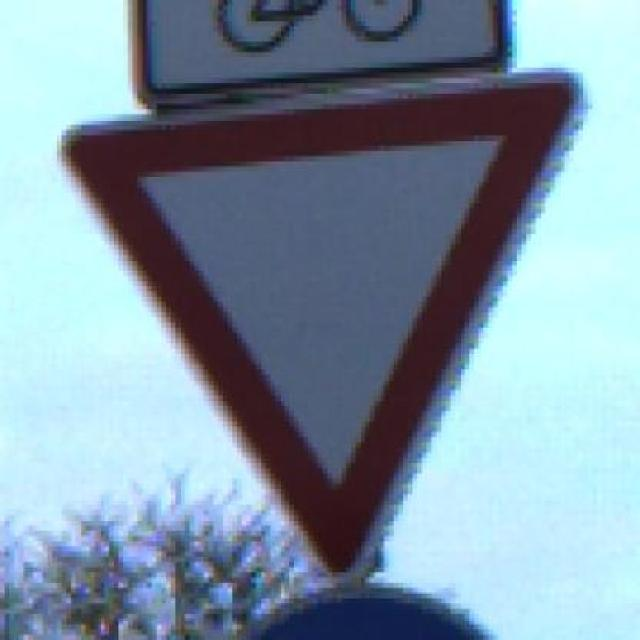Give Way: (34, 55, 608, 618)
